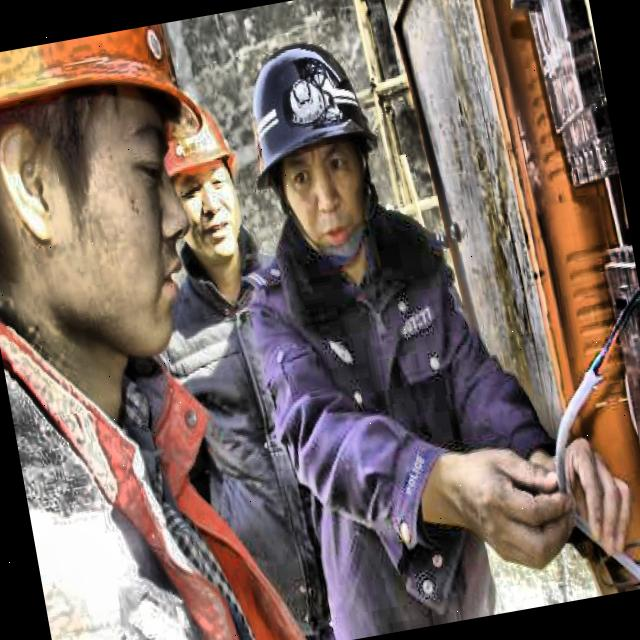helmet: (0, 18, 266, 387), (226, 23, 402, 280), (146, 98, 255, 266)
